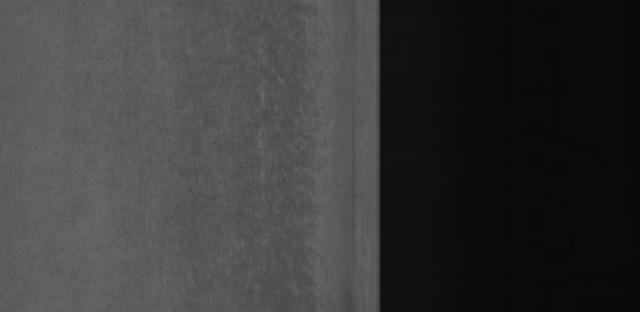silk_spot: (178, 188, 284, 276), (164, 52, 251, 150), (280, 90, 342, 186)
